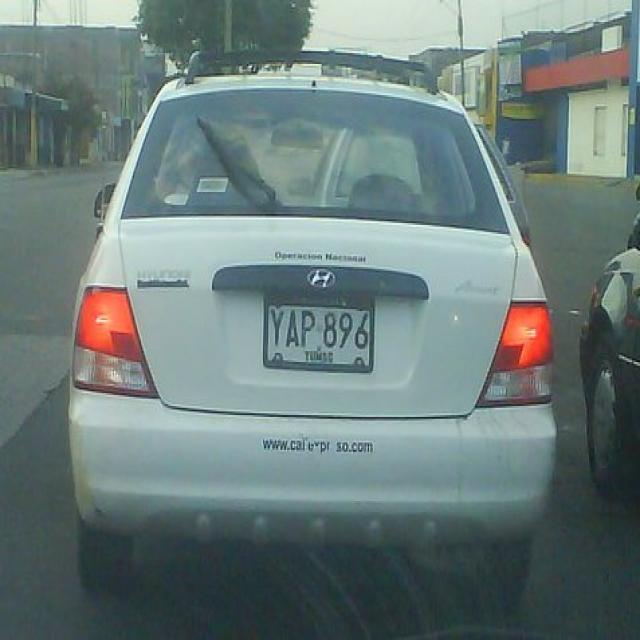placa: (264, 299, 374, 372)
